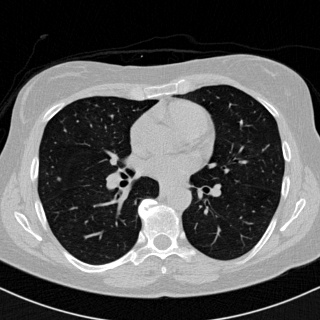PN: (56, 177, 60, 181)
